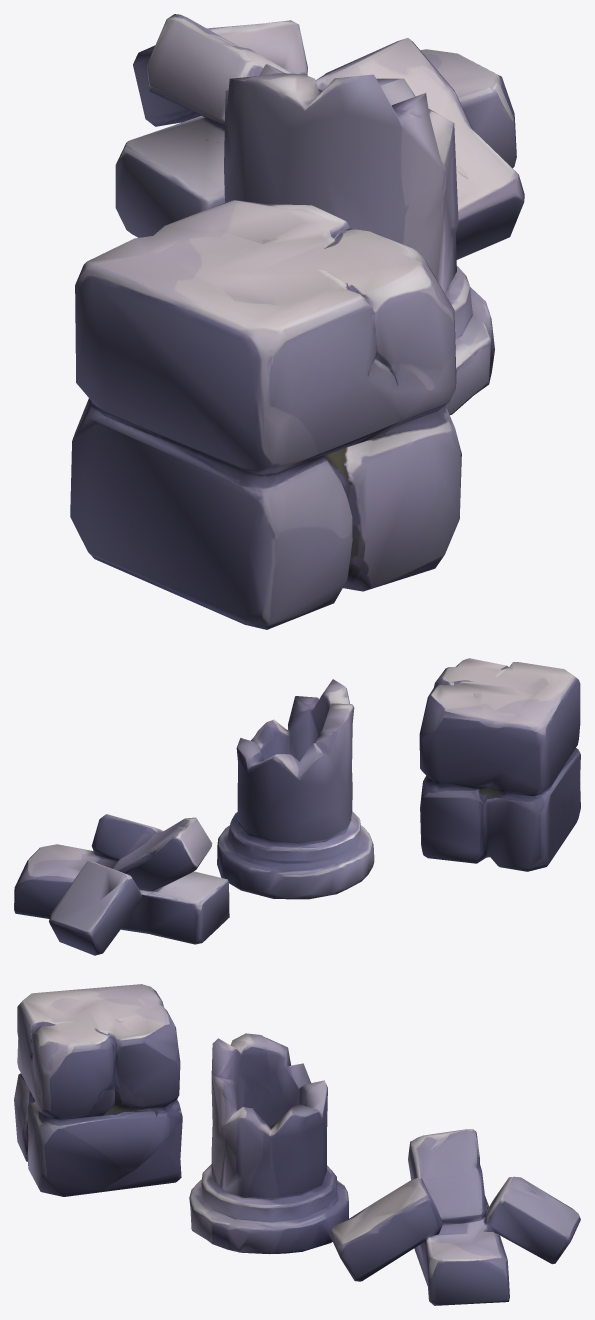
The picture shows the model from 3 angles, top to bottom: view 1: azimuth 30°, elevation 25°; view 2: azimuth 150°, elevation 25°; view 3: azimuth 270°, elevation 25°; orthographic projection. The views are drawn at different scales.
Parts seen in each view (by area): view 1: tripo_node_9a291936-26bb-49f2-a359-a51cdc6c03f1; view 2: tripo_node_9a291936-26bb-49f2-a359-a51cdc6c03f1; view 3: tripo_node_9a291936-26bb-49f2-a359-a51cdc6c03f1.
Part boxes in pixels (x1,y1,x2,y2): tripo_node_9a291936-26bb-49f2-a359-a51cdc6c03f1: (70,14,524,629); tripo_node_9a291936-26bb-49f2-a359-a51cdc6c03f1: (14,658,580,955); tripo_node_9a291936-26bb-49f2-a359-a51cdc6c03f1: (14,984,580,1305).
Bounding box in the file's own units: 0.7495 × 0.3425 × 1.
1 material, 1 textured.
